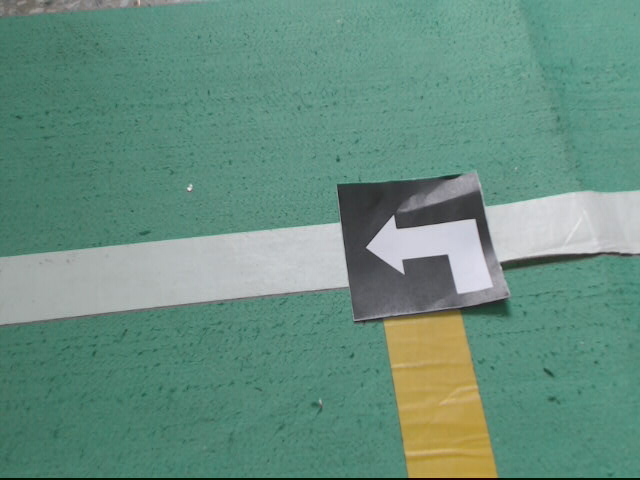left: (336, 171, 513, 321)
